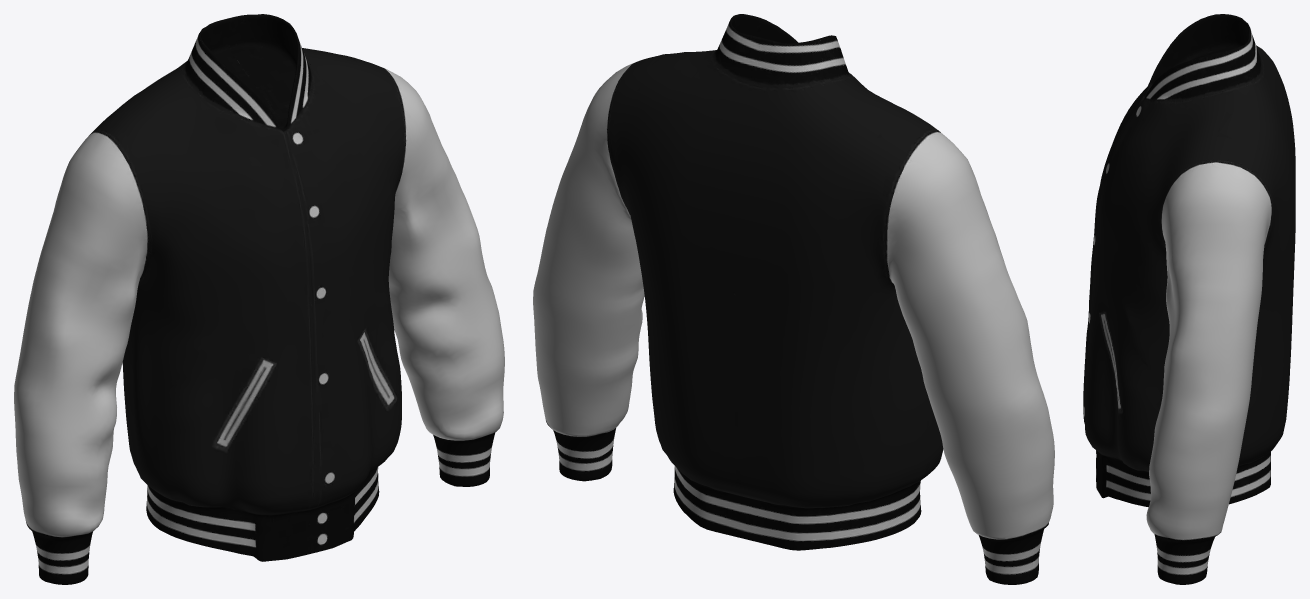
The model's file is JACK_black-transformed.glb.
The picture shows the model from 3 angles, left to right: view 1: azimuth 30°, elevation 25°; view 2: azimuth 150°, elevation 25°; view 3: azimuth 270°, elevation 25°; orthographic projection. The views are drawn at different scales.
Parts seen in each view (by area): view 1: model; view 2: model; view 3: model.
Part boxes in pixels (x1=…): model: x1=14, y1=14, x2=504, y2=584; model: x1=533, y1=14, x2=1054, y2=584; model: x1=1083, y1=14, x2=1295, y2=584.
Bounding box in the file's own units: 1.88 × 1.82 × 0.7748.
Materials: 1 (1 with a texture image).
